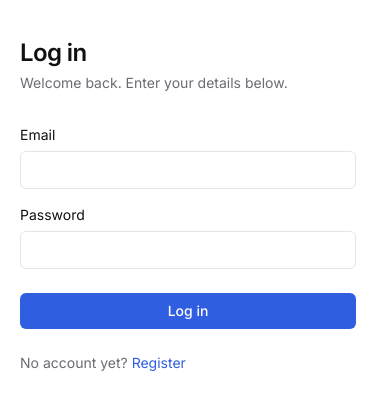
Test: Login page › shows the backend error message when login fails
Type "wrong@example.com" into the field labelled "Email" at (188, 170), box [20,150,356,188]
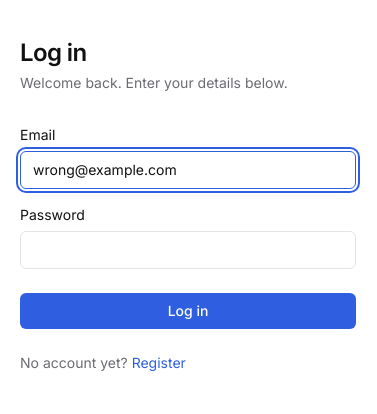
Type "wrongpass" into the password field labelled "Password" at (188, 250), box [20,230,356,268]
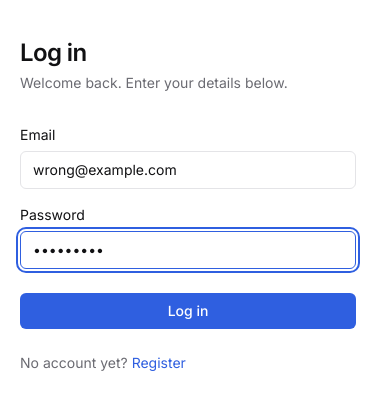
Click the button "Log in" at (188, 310), box [20,292,356,328]
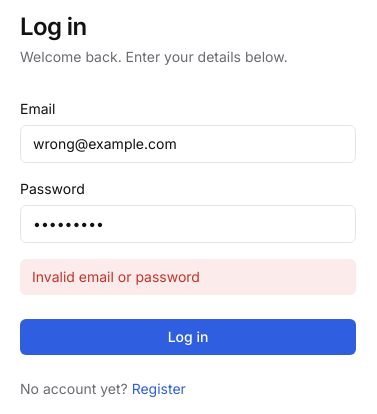
Expected: the message reads "Invalid email or password", [32,268,200,284]
